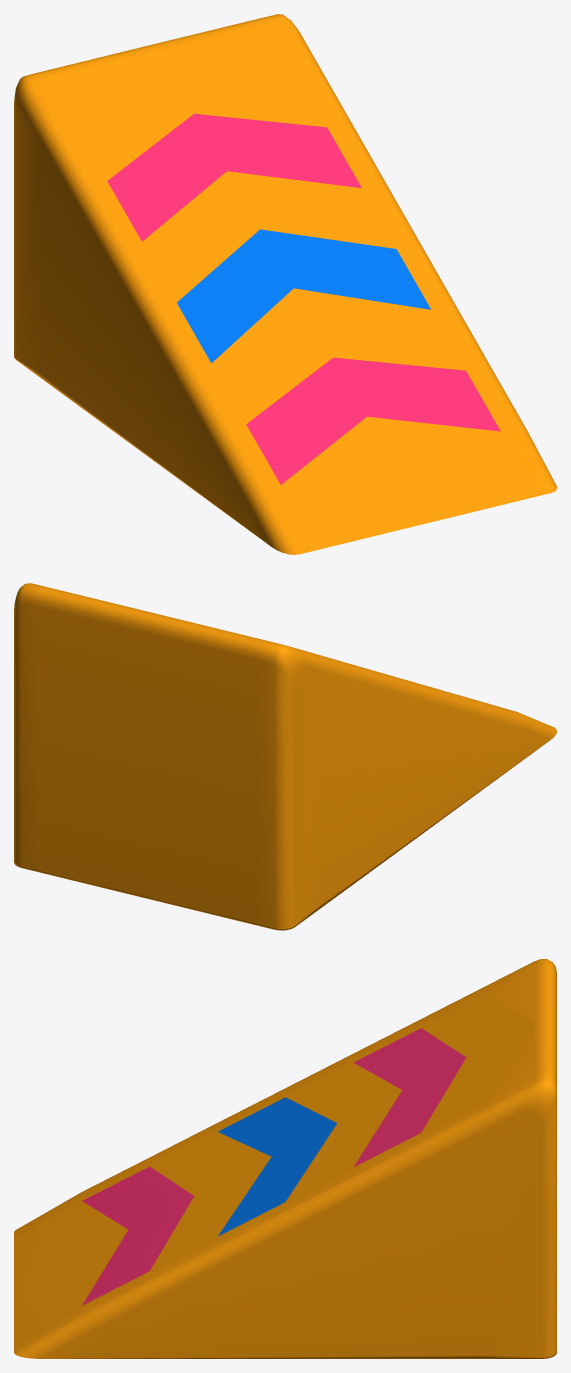
3 views of the same model, one above another, from view 1: azimuth 30°, elevation 25°; view 2: azimuth 150°, elevation 25°; view 3: azimuth 270°, elevation 25° (orthographic). The views are drawn at different scales.
Parts seen in each view (by area): view 1: Zemin.005; view 2: Zemin.005; view 3: Zemin.005.
Part boxes in pixels (x1,y1,x2,y2): Zemin.005: (14,14,556,554); Zemin.005: (14,583,556,930); Zemin.005: (14,959,556,1358).
Bounding box in the file's own units: 36.52 × 34.92 × 63.
